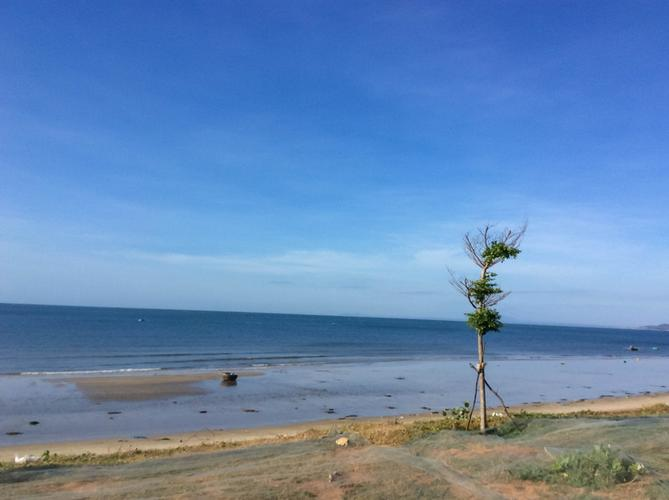sea_river: (0, 291, 666, 371)
sky_cloud: (2, 4, 667, 295)
